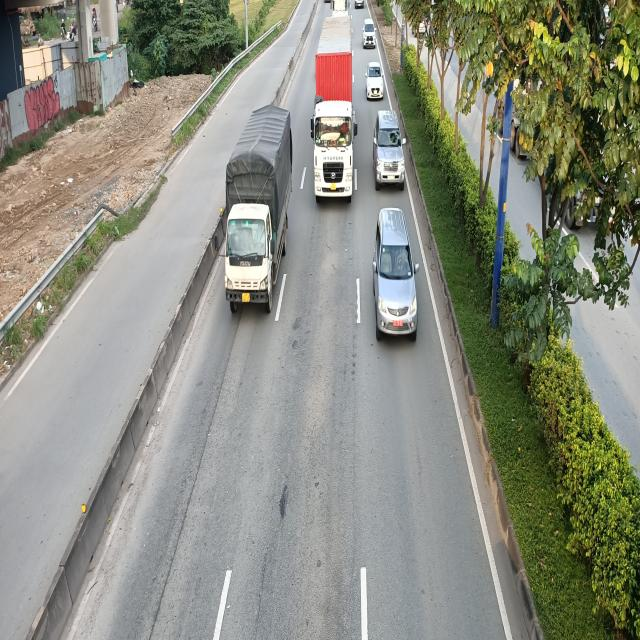car: (375, 208, 420, 340), (372, 107, 406, 189), (366, 60, 386, 100), (361, 20, 376, 50)
container: (313, 13, 360, 204)
truck: (210, 108, 291, 315)
